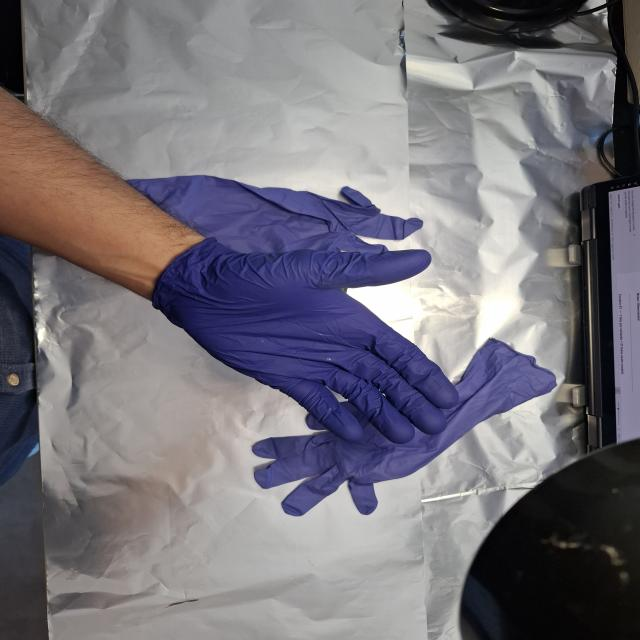glove_on: (152, 237, 465, 447)
